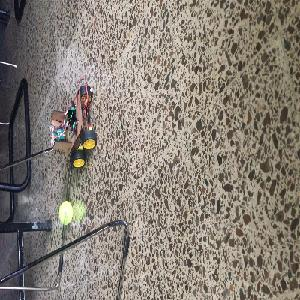Ball: (58, 200, 73, 225)
Robot: (50, 85, 95, 169)
